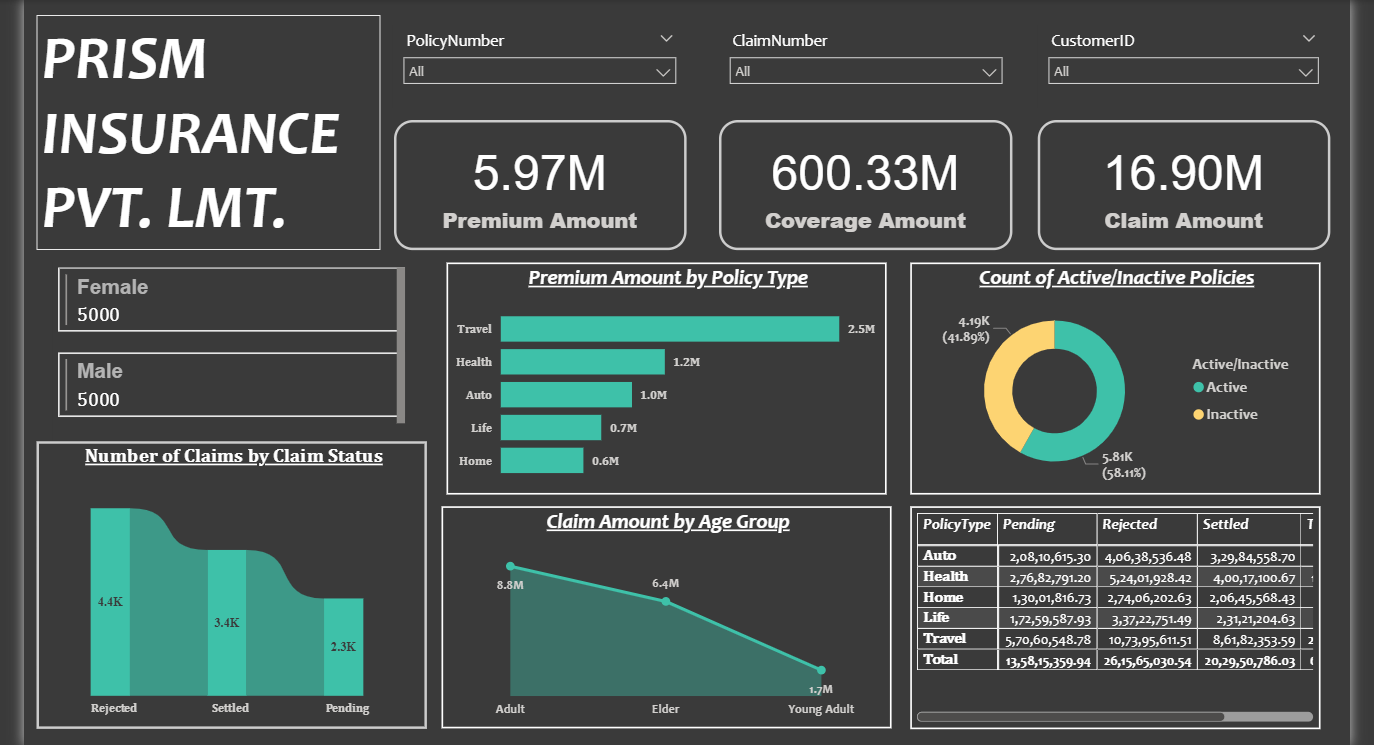

The dashboard page shown, as its layout file describes it:
{"tool":"powerbi","page":{"name":"Page 1","canvas":[1280,720],"ordinal":0},"visuals":[{"type":"slicer","fields":{"Values":["InsuranceData.PolicyNumber"]},"box":[355.9,24.1,283.5,79.6],"z":0},{"type":"slicer","fields":{"Values":["InsuranceData.ClaimNumber"]},"box":[670.8,24.1,283.5,79.6],"z":1000},{"type":"slicer","fields":{"Values":["InsuranceData.CustomerID"]},"box":[978.4,24.1,281.1,79.6],"z":2000},{"type":"textbox","box":[12.1,14.5,331.8,226.8],"z":3000},{"type":"card","fields":{"Values":["Sum(InsuranceData.PremiumAmount)"]},"box":[357.1,115.8,282.3,125.5],"z":4000},{"type":"card","fields":{"Values":["Sum(InsuranceData.CoverageAmount)"]},"box":[670.8,115.8,283.5,125.5],"z":5000},{"type":"card","fields":{"Values":["Sum(InsuranceData.ClaimAmount)"]},"box":[978.4,115.8,282.3,125.5],"z":6000},{"type":"multiRowCard","fields":{"Values":["InsuranceData.Gender","CountNonNull(InsuranceData.Gender)"]},"box":[27.7,253.4,345,172.5],"z":7000},{"type":"ribbonChart","title":"Number of Claims by Claim Status","fields":{"Category":["InsuranceData.ClaimStatus"],"Y":["CountNonNull(InsuranceData.ClaimStatus)"]},"box":[12.1,425.9,376.4,277.5],"z":8000},{"type":"barChart","title":"Premium Amount by Policy Type","fields":{"Category":["InsuranceData.PolicyType"],"Y":["Sum(InsuranceData.PremiumAmount)"]},"box":[407.8,253.4,424.7,224.4],"z":9000},{"type":"lineChart","title":"Claim Amount by Age Group","fields":{"Category":["InsuranceData.Age Group"],"Y":["Sum(InsuranceData.ClaimAmount)"]},"box":[403,488.6,434.3,214.7],"z":10000},{"type":"donutChart","title":"Count of Active/Inactive Policies","fields":{"Category":["InsuranceData.Active/Inactive"],"Y":["CountNonNull(InsuranceData.Active/Inactive)"]},"box":[855.4,253.4,395.7,224.4],"z":11000},{"type":"pivotTable","fields":{"Values":["Sum(InsuranceData.CoverageAmount)"],"Rows":["InsuranceData.PolicyType"],"Columns":["InsuranceData.ClaimStatus"]},"box":[855,489,396,215],"z":12000}]}

Visuals, with their boxes on the page's 1280x720 design canvas (x1, y1, x2, y2). These are canvas units, not pixel positions in the 1374x745 screenshot, which may show the page scaled, cropped or inside an application window:
slicer - InsuranceData.PolicyNumber: <region>356, 24, 639, 104</region>
slicer - InsuranceData.ClaimNumber: <region>671, 24, 954, 104</region>
slicer - InsuranceData.CustomerID: <region>978, 24, 1260, 104</region>
textbox: <region>12, 14, 344, 241</region>
card - Sum(InsuranceData.PremiumAmount): <region>357, 116, 639, 241</region>
card - Sum(InsuranceData.CoverageAmount): <region>671, 116, 954, 241</region>
card - Sum(InsuranceData.ClaimAmount): <region>978, 116, 1261, 241</region>
multiRowCard - InsuranceData.Gender x CountNonNull(InsuranceData.Gender): <region>28, 253, 373, 426</region>
"Number of Claims by Claim Status" ribbonChart: <region>12, 426, 388, 703</region>
"Premium Amount by Policy Type" barChart: <region>408, 253, 832, 478</region>
"Claim Amount by Age Group" lineChart: <region>403, 489, 837, 703</region>
"Count of Active/Inactive Policies" donutChart: <region>855, 253, 1251, 478</region>
pivotTable - Sum(InsuranceData.CoverageAmount) x InsuranceData.PolicyType: <region>855, 489, 1251, 704</region>
